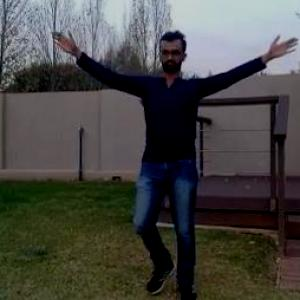takeoff: (61, 32, 299, 299)
